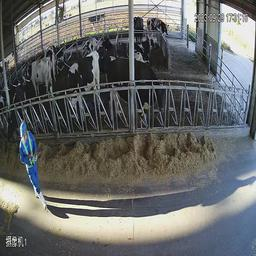cow: (105, 56, 169, 148), (62, 48, 103, 138), (4, 76, 30, 153), (20, 57, 57, 108), (155, 13, 179, 47), (132, 39, 160, 65), (98, 30, 116, 58), (133, 11, 144, 39)
